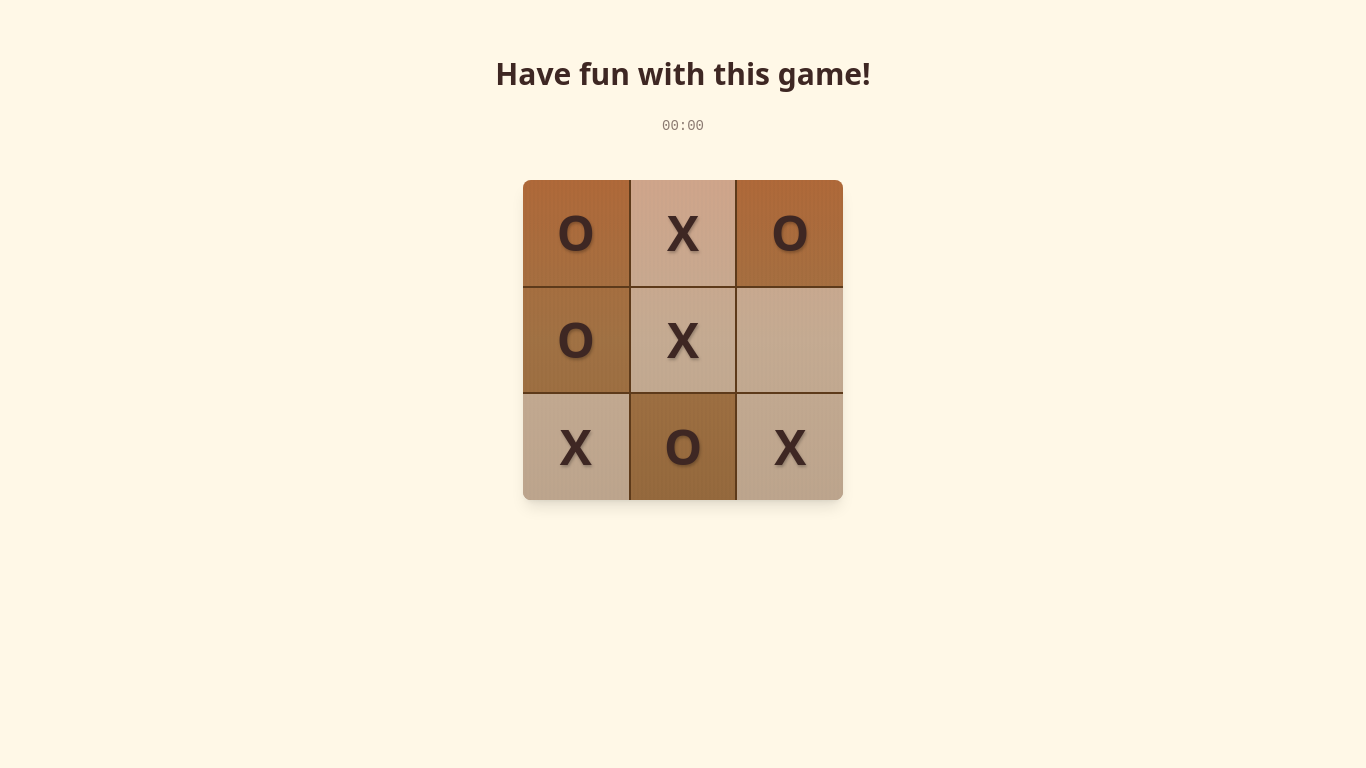
Test: Game › ending the game › given a board one move away from a draw › displays a draw message after the last move
The image size is (1366, 768).
Click the button with test id "cell": click(790, 340) [736, 287, 843, 393]
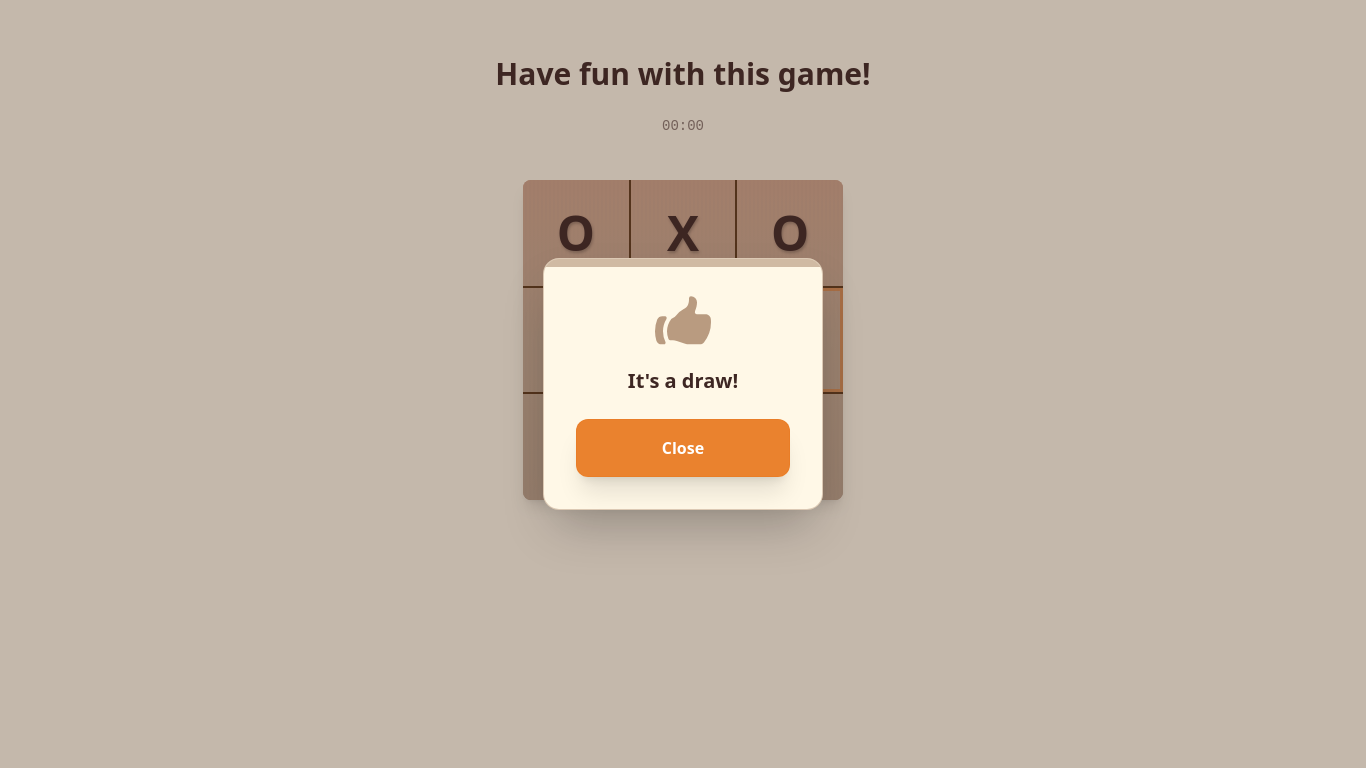
Result: the button with test id "cell" reads "X" at [736, 287, 843, 393]
Result: the element with test id "game-ends-message" reads "It's a draw!" at [628, 367, 738, 394]
